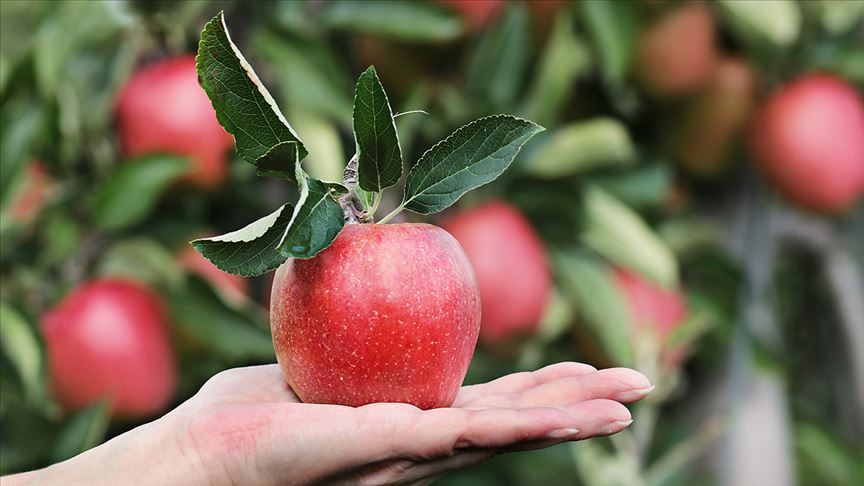elma: (281, 208, 485, 412)
